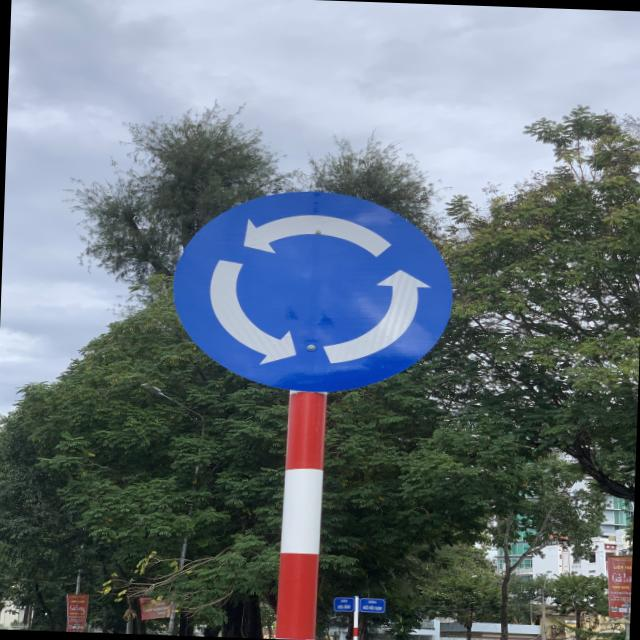Xe_Bus: (168, 184, 458, 397)
